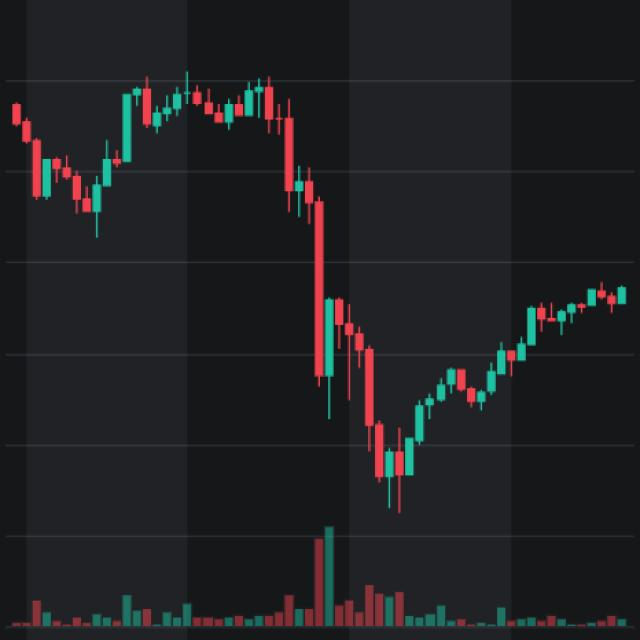Inverse-Head-Shoulders: (298, 251, 536, 519)
